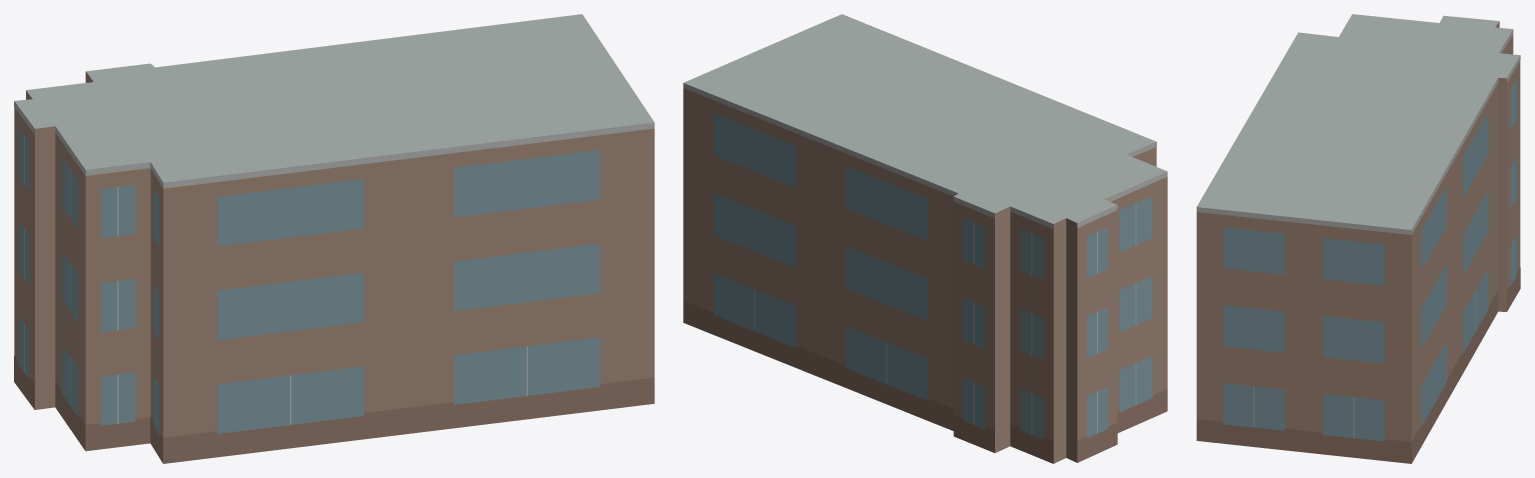
File: survey-upis-32583969.glb
The picture shows the model from 3 angles, left to right: view 1: azimuth 30°, elevation 25°; view 2: azimuth 150°, elevation 25°; view 3: azimuth 270°, elevation 25°; orthographic projection. The views are drawn at different scales.
Parts seen in each view (by area): view 1: survey-upis-32583969.tmp; view 2: survey-upis-32583969.tmp; view 3: survey-upis-32583969.tmp.
Part boxes in pixels (x1,y1,x2,y2): survey-upis-32583969.tmp: (14, 14, 654, 463); survey-upis-32583969.tmp: (683, 14, 1167, 463); survey-upis-32583969.tmp: (1196, 14, 1520, 463).
Bounding box in the file's own units: 22.6 × 11.4 × 14.32.
